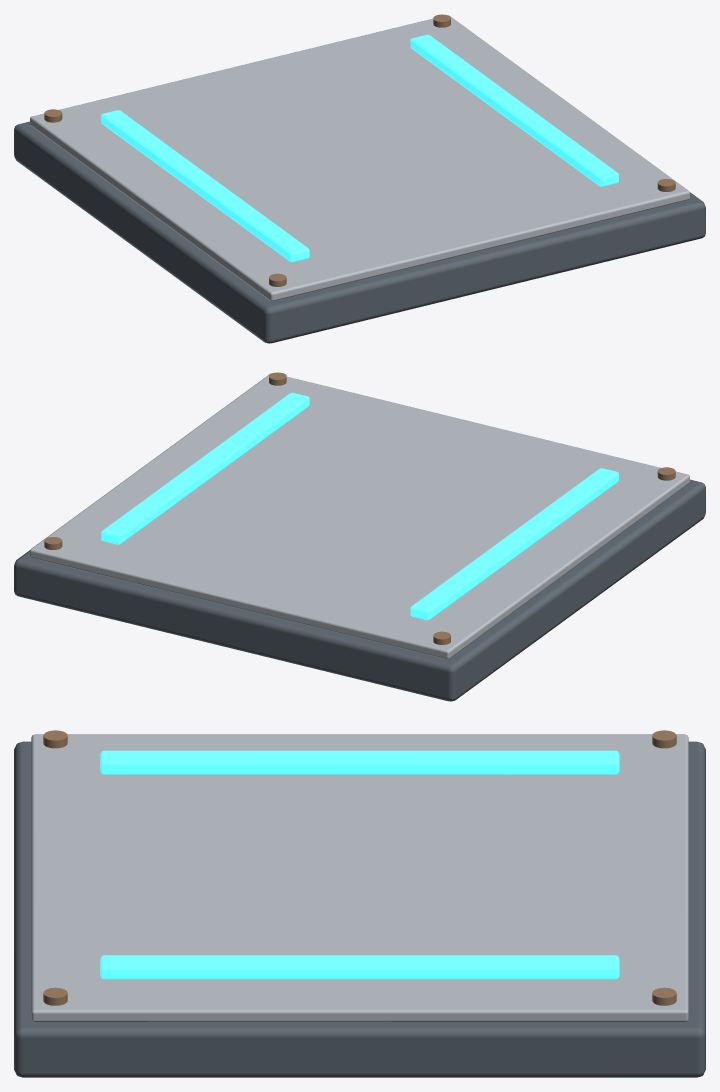
Rendered from arena-shooter-map-kit-ceiling-panel-b6ef155a__23074.glb.
3 views of the same model, one above another, from view 1: azimuth 30°, elevation 25°; view 2: azimuth 150°, elevation 25°; view 3: azimuth 270°, elevation 25° (orthographic). The views are drawn at different scales.
Visible parts, largest first — view 1: ceiling-panel; view 2: ceiling-panel; view 3: ceiling-panel.
Part boxes in pixels (x1,y1,x2,y2): ceiling-panel: (14,14,705,343); ceiling-panel: (14,372,705,701); ceiling-panel: (14,730,705,1077).
Bounding box in the file's own units: 2 × 0.245 × 2.
